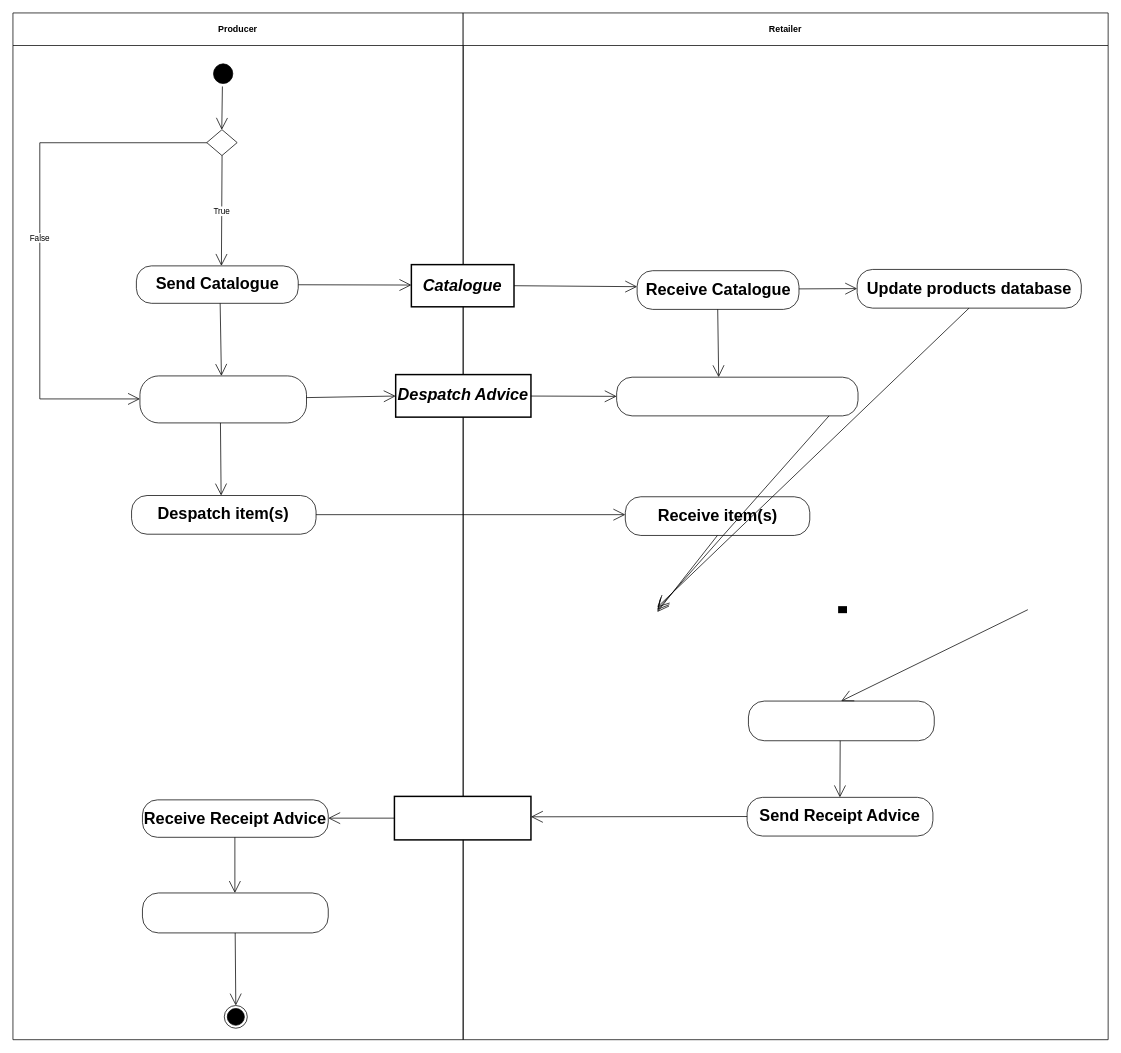
The diagram is 1121 pixels wide and 1053 high, and some of its shapes have lost their labels. Here are the shapes that lost their labels. From the top down, the centre of each, then its label:
At [223,399]: "Send Despatch Advice".
At [737,396]: "Receive Despatch Advice".
At [841,720]: "Check status of item(s)".
At [462,817]: "Receipt Advice".
At [235,912]: "Adjust supply status".
